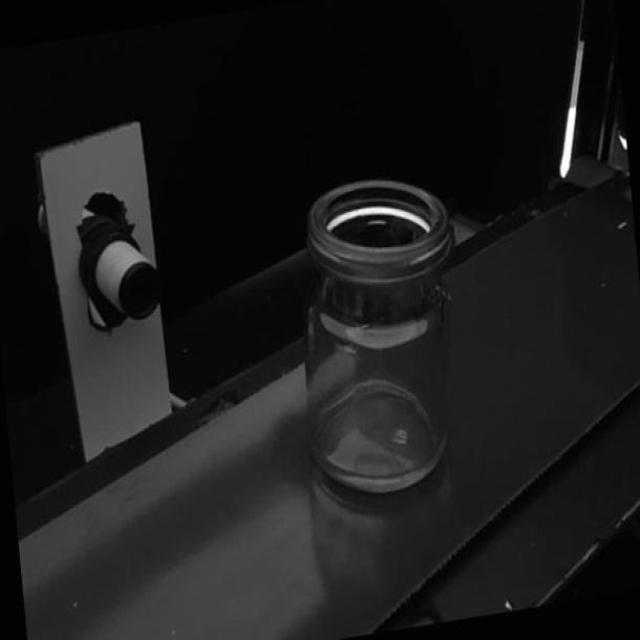defect: (356, 323, 370, 331)
glass: (286, 166, 480, 505)
